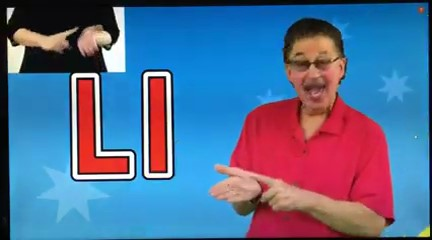L: (208, 162, 308, 217), (45, 23, 102, 62)
